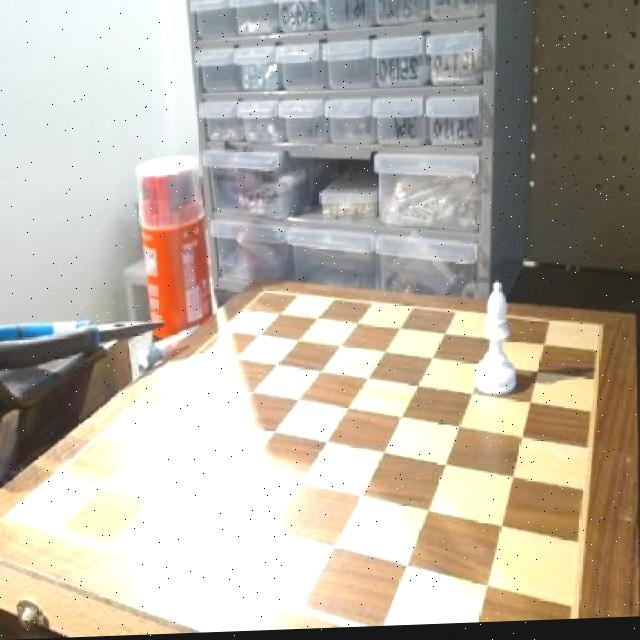black-rook: (466, 276, 522, 403)
